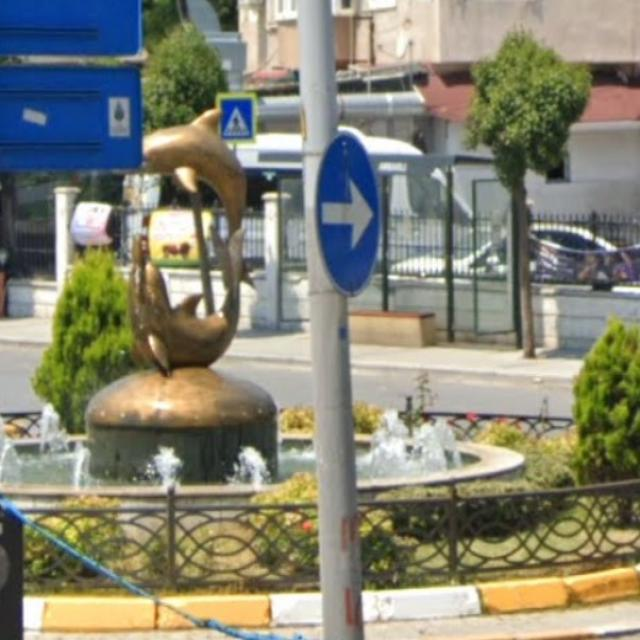Turn Right: (318, 144, 388, 299)
